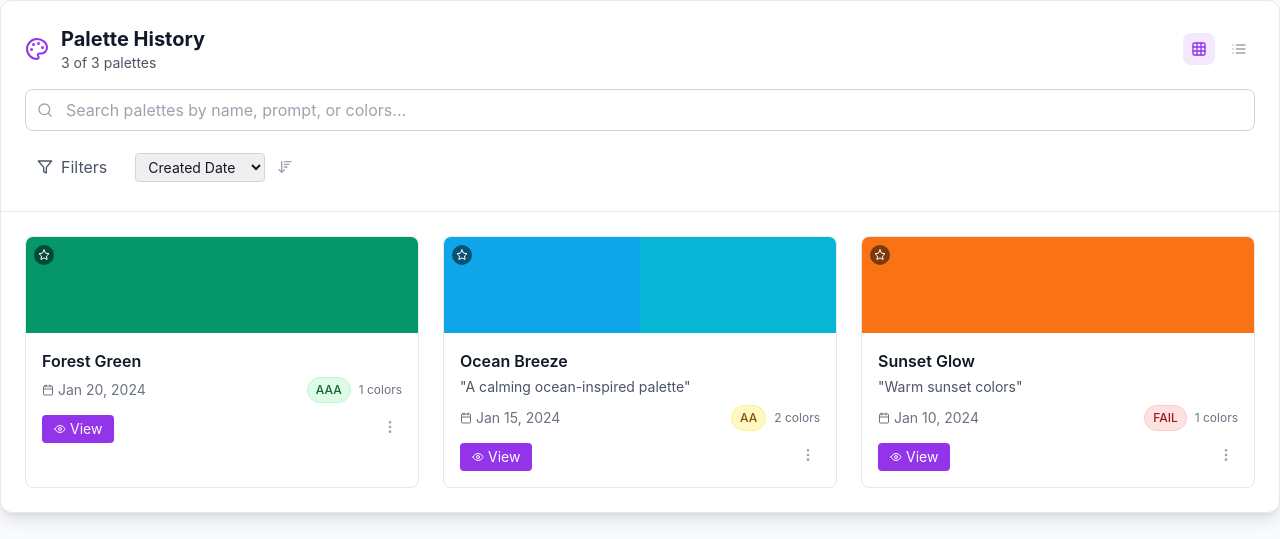
Scenario: HistoryPanel › Search Functionality › filters palettes by color name
Step 1. Type "Emerald" into the field with placeholder "Search palettes by name, prompt, or colors..." → [640, 110], box [25,89,1255,131]
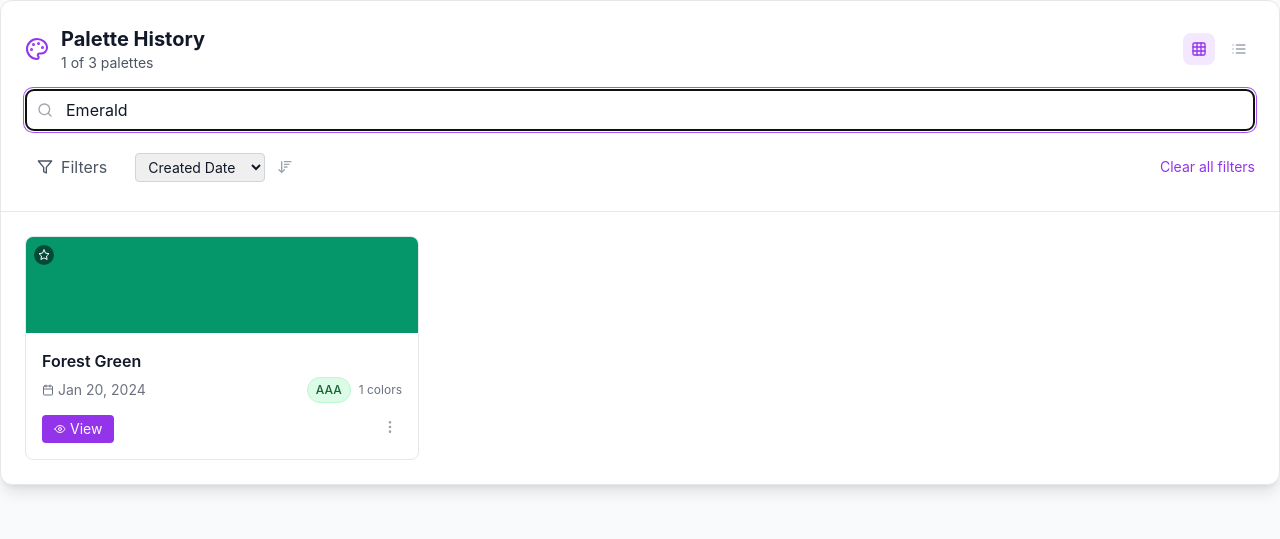
Expected: the heading "Forest Green" is shown, [42,351,141,371]
Result: the heading "Ocean Breeze" is gone
